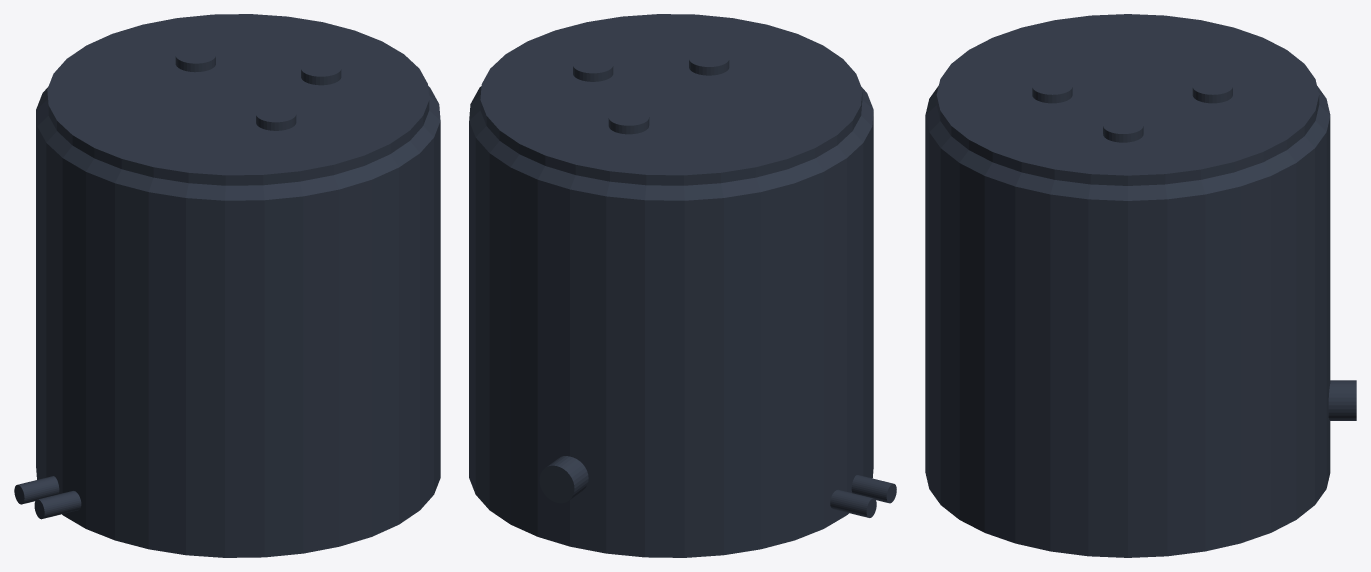
The model's file is rez.gltf.
3 renders of one model, left to right at view 1: azimuth 30°, elevation 25°; view 2: azimuth 150°, elevation 25°; view 3: azimuth 270°, elevation 25°, orthographic.
Parts seen in each view (by area): view 1: Cylinder, Cylinder.002, Cylinder.006, Cylinder.005, Cylinder.004, Cylinder.003; view 2: Cylinder, Cylinder.001, Cylinder.003, Cylinder.005, Cylinder.004, Cylinder.006, Cylinder.002; view 3: Cylinder, Cylinder.001, Cylinder.004, Cylinder.005, Cylinder.006.
Part boxes in pixels (x1,y1,x2,y2): Cylinder: (36, 14, 440, 557); Cylinder.002: (34, 491, 81, 519); Cylinder.006: (301, 59, 341, 85); Cylinder.005: (175, 46, 215, 72); Cylinder.004: (256, 105, 296, 130); Cylinder.003: (14, 476, 59, 504); Cylinder: (469, 14, 873, 557); Cylinder.001: (539, 456, 588, 503); Cylinder.003: (830, 489, 876, 517); Cylinder.005: (608, 108, 649, 134); Cylinder.004: (689, 50, 729, 75); Cylinder.006: (573, 56, 613, 81); Cylinder.002: (851, 475, 896, 503); Cylinder: (925, 14, 1330, 557); Cylinder.001: (1328, 380, 1356, 420); Cylinder.004: (1032, 77, 1072, 103); Cylinder.005: (1192, 77, 1232, 103); Cylinder.006: (1103, 117, 1143, 142).
Size of the model in its own units: 43.88 by 42.06 by 42.58.
